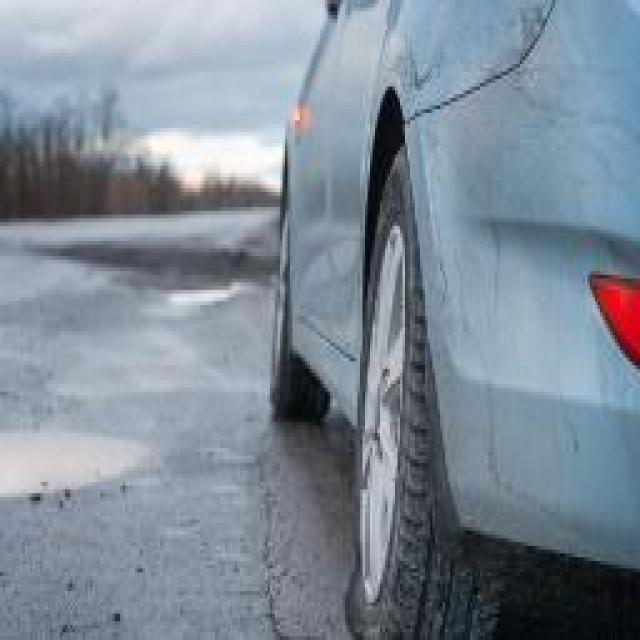Bumper: (403, 0, 640, 570)
Fender: (394, 0, 563, 113)
